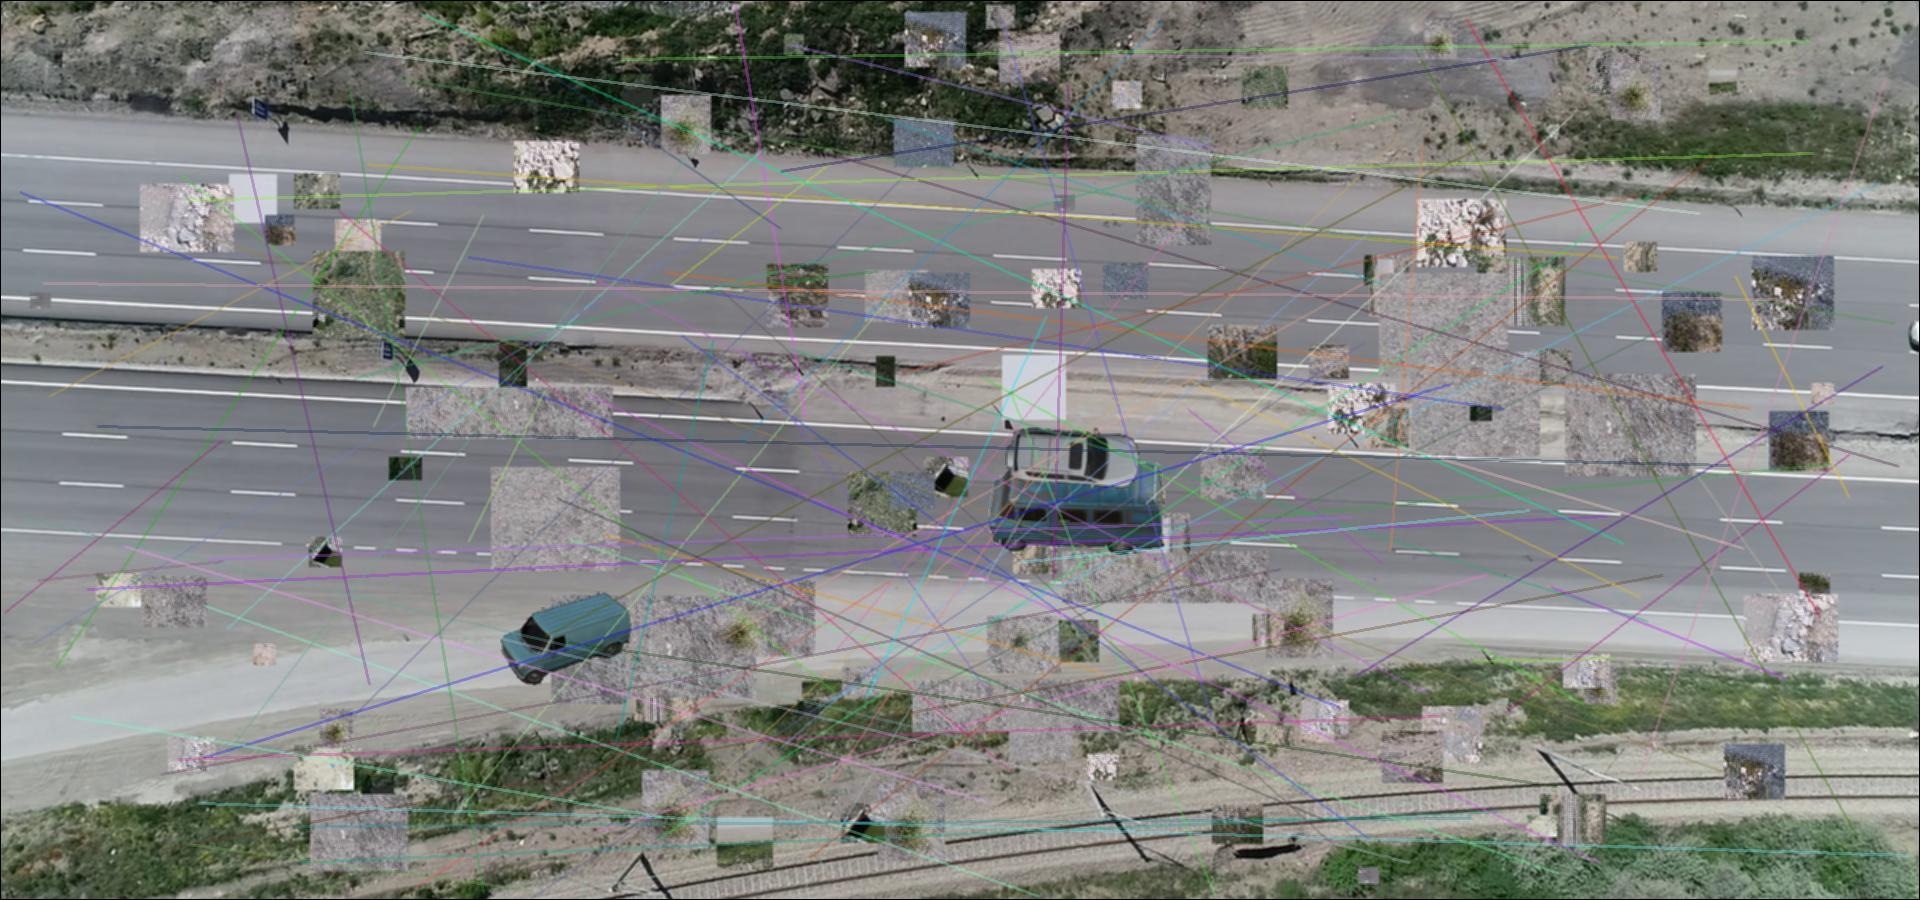arac: (989, 460, 1164, 557), (501, 590, 632, 684), (1007, 427, 1142, 492)
